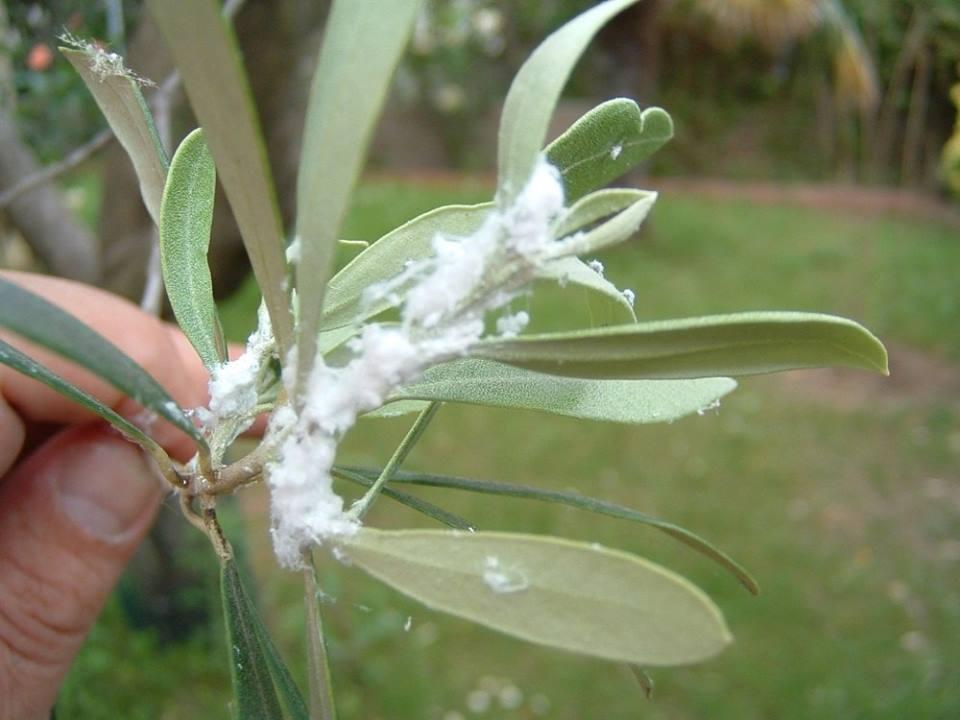Psyllid: (264, 162, 595, 594), (164, 350, 266, 454)
